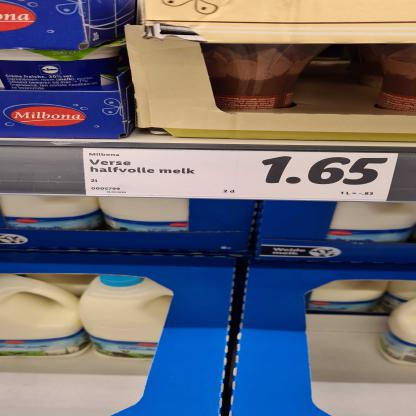prtg: (84, 149, 399, 203)
